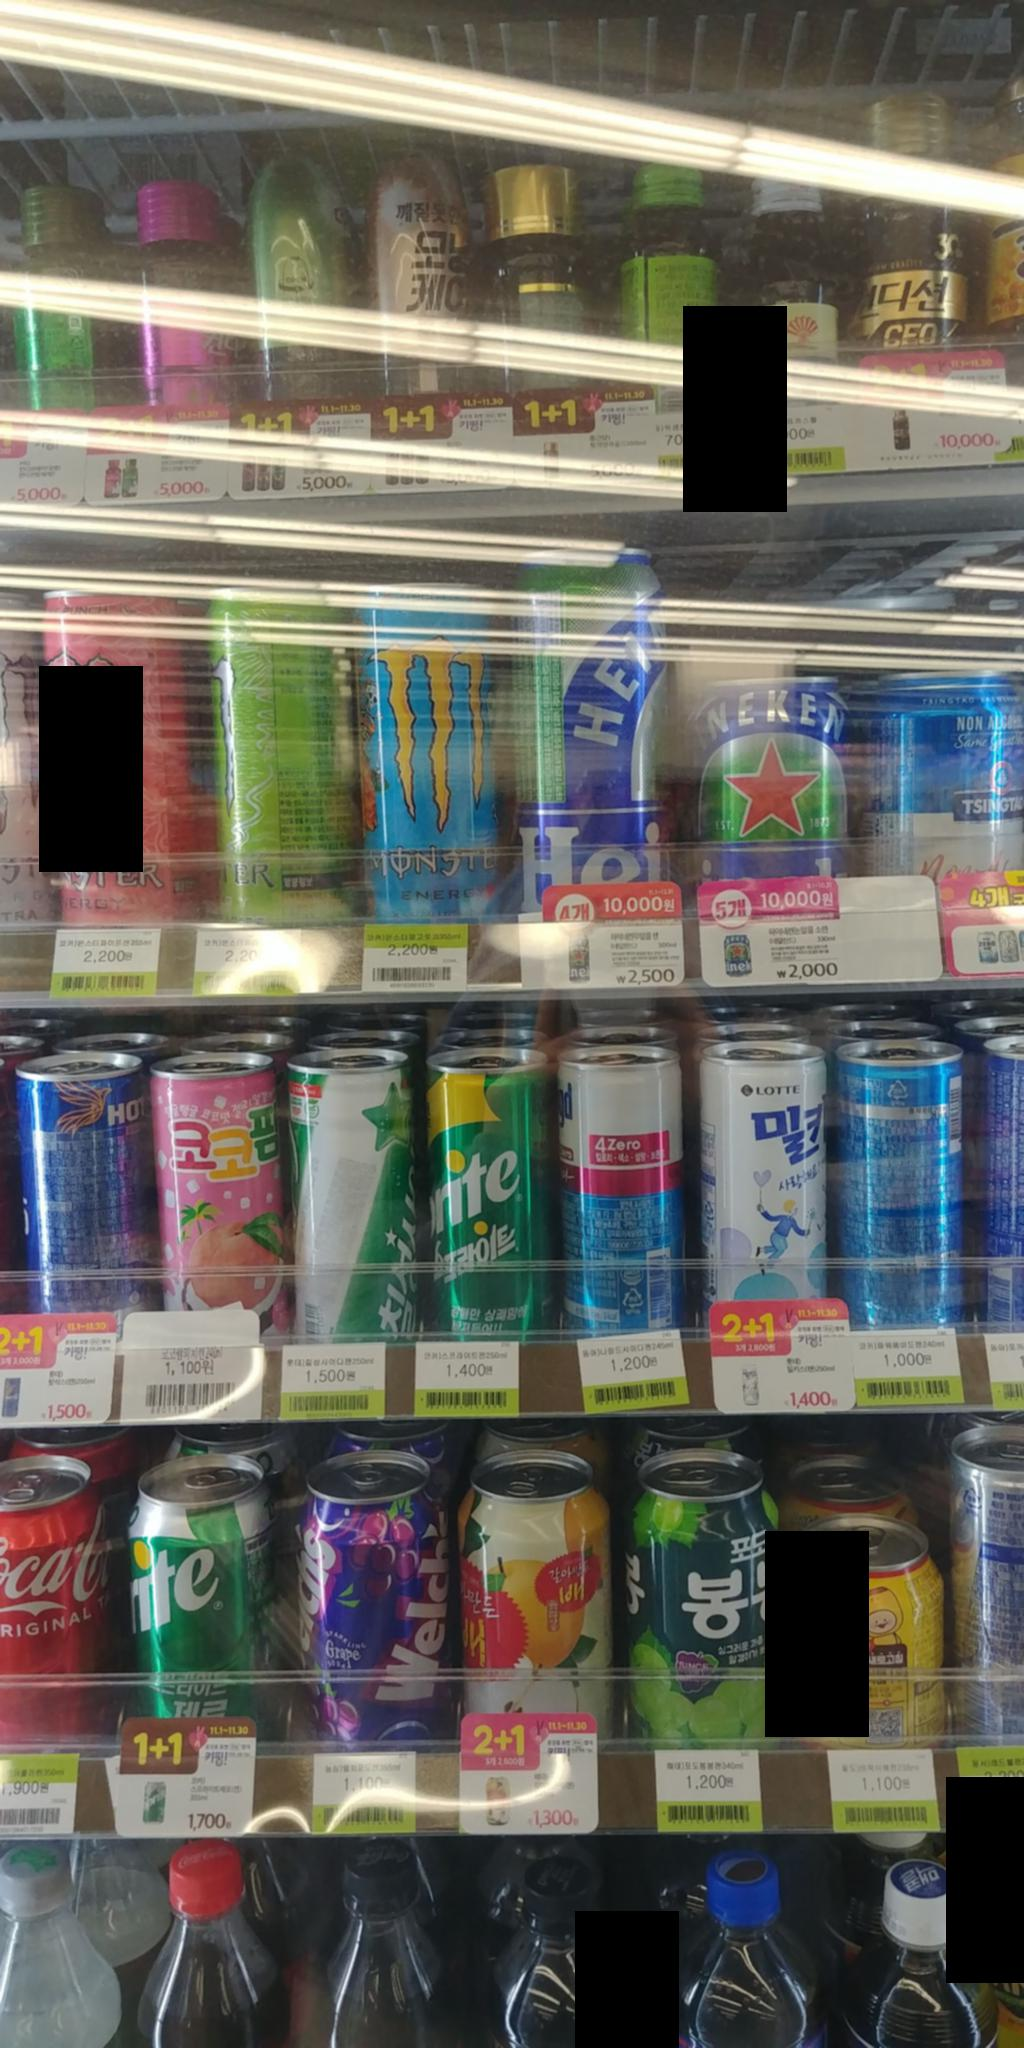cocacola: (0, 1447, 121, 1753)
hotsix_org: (17, 1041, 154, 1323)
welchs_grape: (294, 1437, 448, 1737)
